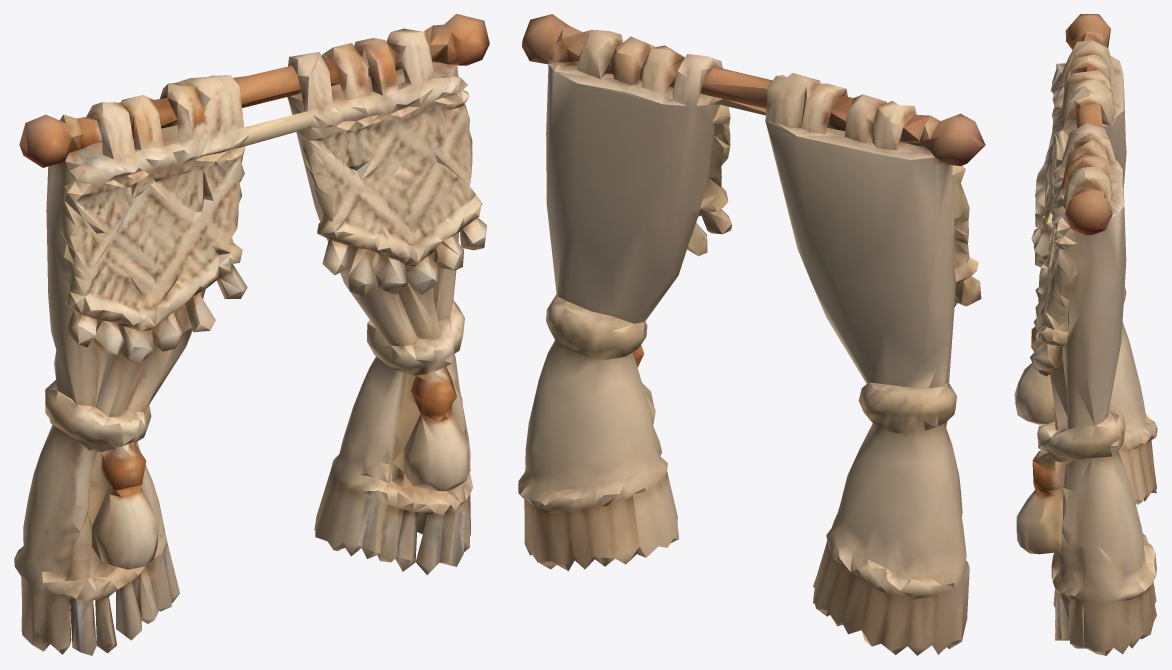
Rendered from curtain22.glb.
3 renders of one model, left to right at view 1: azimuth 30°, elevation 25°; view 2: azimuth 150°, elevation 25°; view 3: azimuth 270°, elevation 25°, orthographic. The views are drawn at different scales.
Bounding box in the file's own units: 0.2293 × 0.2543 × 0.0709.
Materials: 1 (1 with a texture image).
